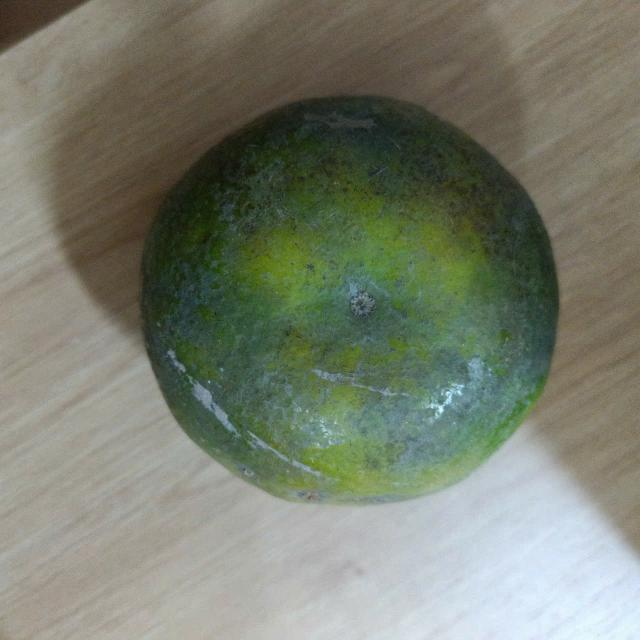Cam: (138, 91, 562, 508)
